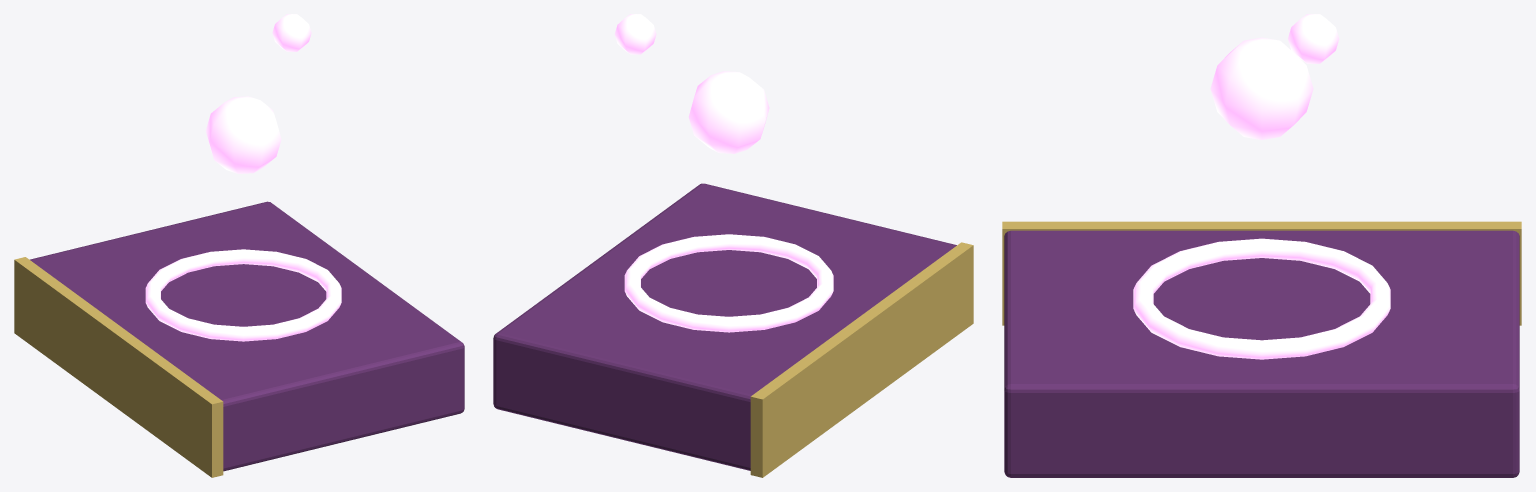
File: grimoire_glowing.glb
3 renders of one model, left to right at view 1: azimuth 30°, elevation 25°; view 2: azimuth 150°, elevation 25°; view 3: azimuth 270°, elevation 25°, orthographic. The views are drawn at different scales.
Visible parts, largest first — view 1: GD_grimoire_glowing__m0, GD_grimoire_glowing__m2, GD_grimoire_glowing__m3; view 2: GD_grimoire_glowing__m0, GD_grimoire_glowing__m2, GD_grimoire_glowing__m3; view 3: GD_grimoire_glowing__m0, GD_grimoire_glowing__m3, GD_grimoire_glowing__m2.
Boxes of the visible parts, left/top/right/bottom form: GD_grimoire_glowing__m0: left=30, top=201, right=464, bottom=471; GD_grimoire_glowing__m2: left=14, top=257, right=223, bottom=477; GD_grimoire_glowing__m3: left=145, top=14, right=341, bottom=341; GD_grimoire_glowing__m0: left=493, top=183, right=956, bottom=470; GD_grimoire_glowing__m2: left=750, top=242, right=973, bottom=477; GD_grimoire_glowing__m3: left=614, top=14, right=833, bottom=332; GD_grimoire_glowing__m0: left=1004, top=230, right=1519, bottom=477; GD_grimoire_glowing__m3: left=1133, top=14, right=1390, bottom=359; GD_grimoire_glowing__m2: left=1002, top=221, right=1521, bottom=325.
Bounding box in the file's own units: 0.225 × 0.276 × 0.302.
